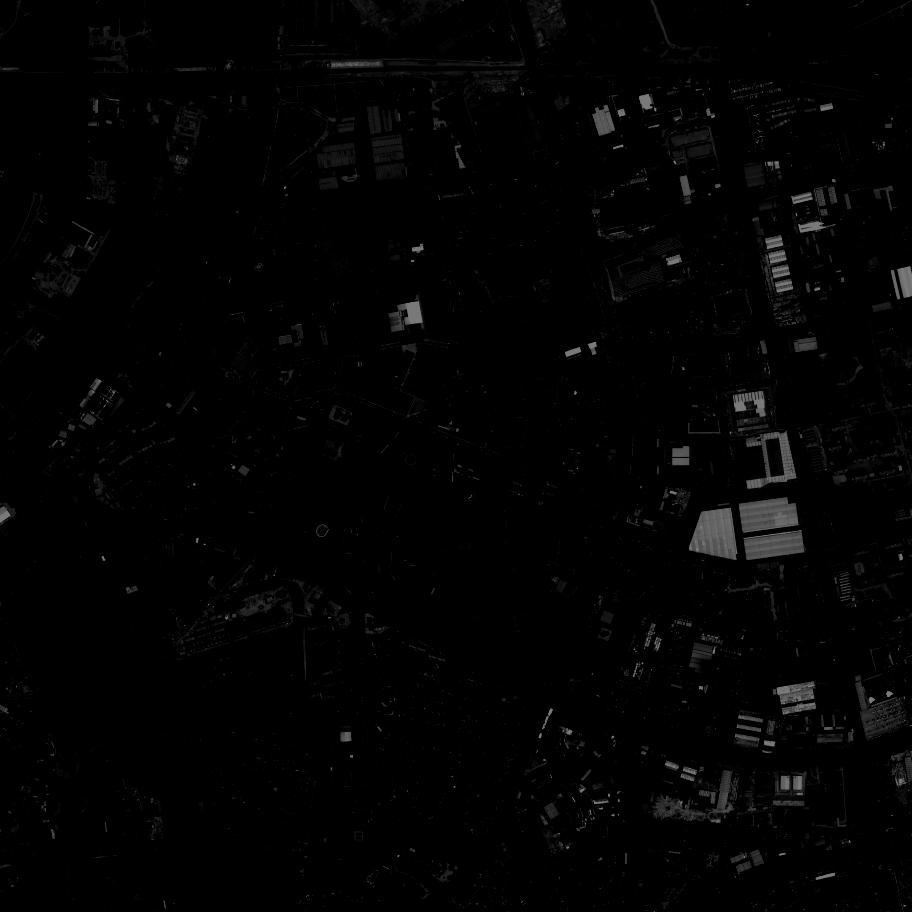ship: (30, 312, 39, 322), (37, 320, 46, 329), (36, 322, 45, 331), (29, 314, 36, 325), (20, 305, 29, 313), (20, 308, 28, 317), (27, 317, 37, 324), (37, 326, 45, 334), (19, 310, 27, 318), (42, 262, 51, 269), (18, 311, 25, 319), (11, 306, 17, 315), (40, 246, 45, 256), (12, 302, 19, 309), (10, 304, 17, 310), (118, 382, 124, 387)
